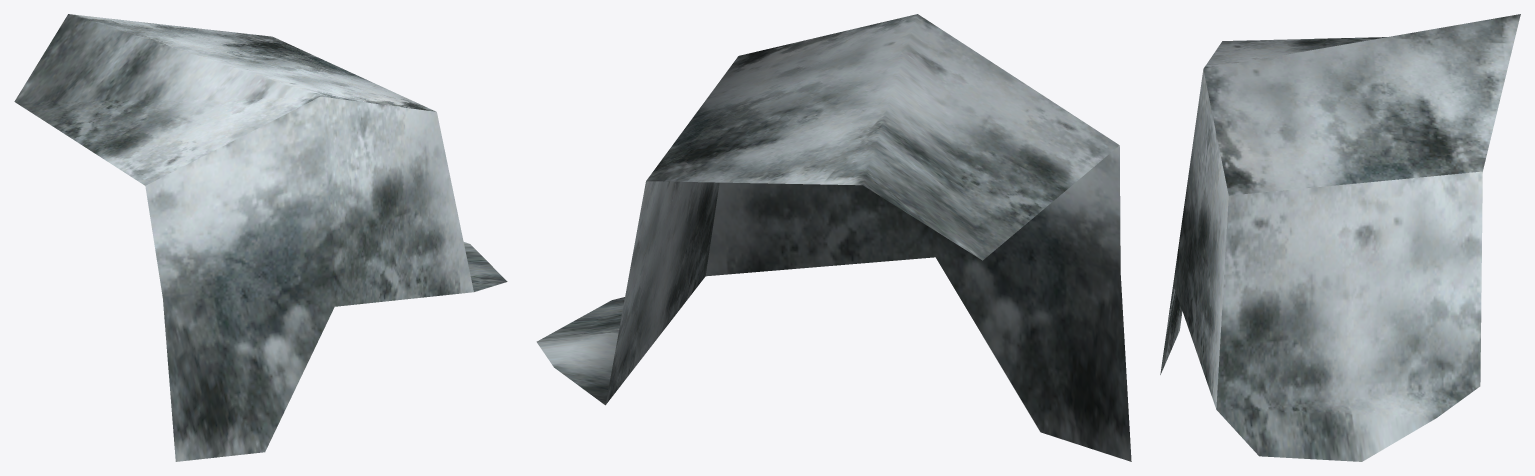
File: S_Rock_White002_A1.FBX
3 views of the same model, side by side, from view 1: azimuth 30°, elevation 25°; view 2: azimuth 150°, elevation 25°; view 3: azimuth 270°, elevation 25° (orthographic). The views are drawn at different scales.
Parts seen in each view (by area): view 1: S_Rock_White002_A1; view 2: S_Rock_White002_A1; view 3: S_Rock_White002_A1.
Boxes of the visible parts, x1,y1,x2,y2 form: S_Rock_White002_A1: (14,14,507,461); S_Rock_White002_A1: (536,14,1131,461); S_Rock_White002_A1: (1160,14,1520,461).
Bounding box in the file's own units: 366 × 280 × 264.
